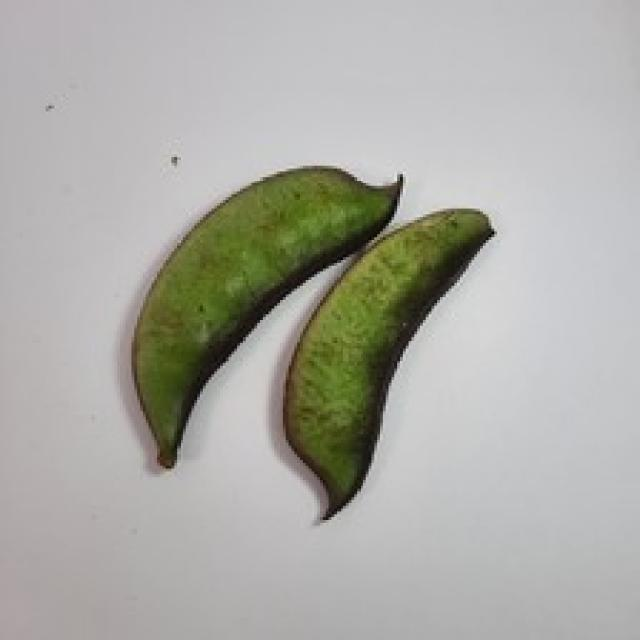Bean: (128, 163, 403, 468), (280, 206, 494, 520)
